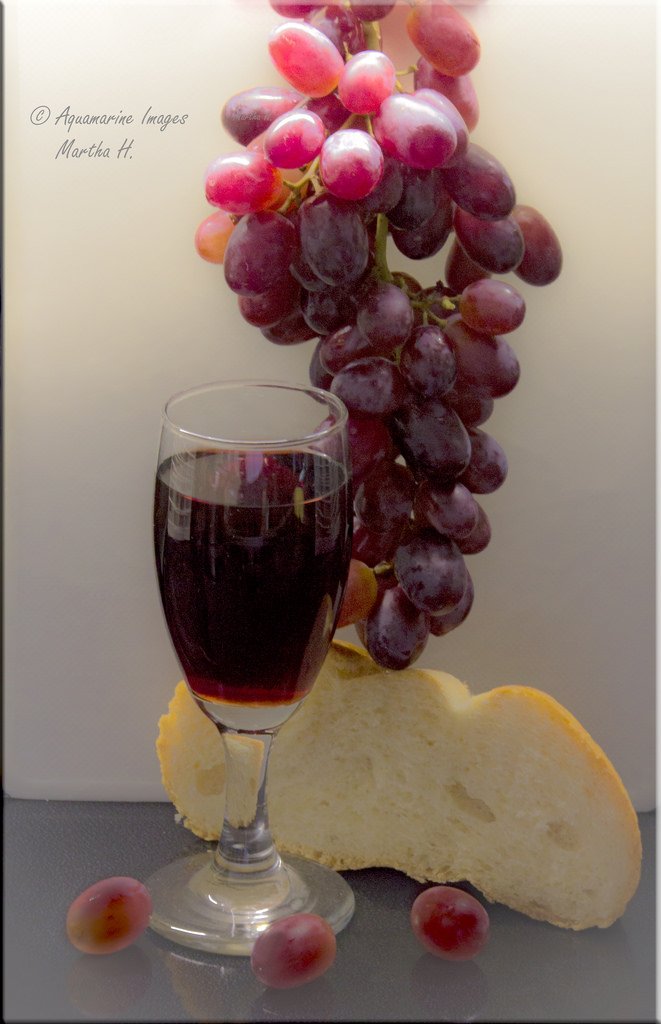slice of bread: (295, 669, 650, 865)
